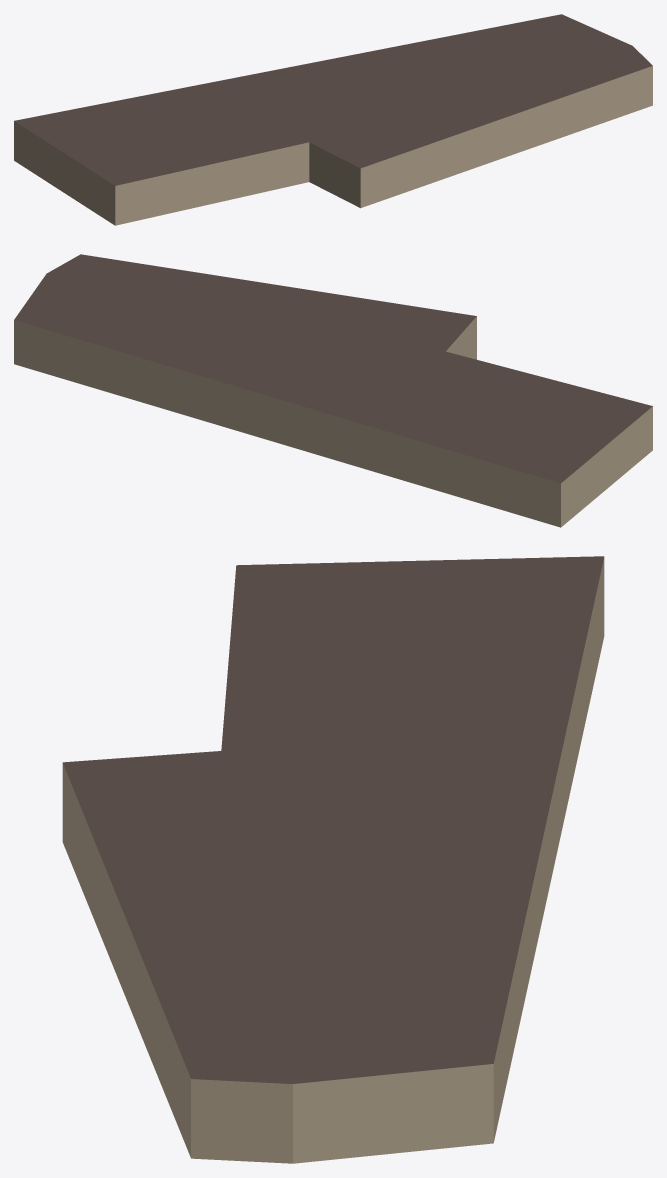
3 renders of one model, top to bottom at view 1: azimuth 30°, elevation 25°; view 2: azimuth 150°, elevation 25°; view 3: azimuth 270°, elevation 25°, orthographic. The views are drawn at different scales.
Parts seen in each view (by area): view 1: HP-w408450803; view 2: HP-w408450803; view 3: HP-w408450803.
Part boxes in pixels (x1,y1,x2,y2): HP-w408450803: (14,14,652,225); HP-w408450803: (14,254,652,527); HP-w408450803: (62,556,604,1163).
Size of the model in its own units: 42.66 by 3 by 18.5.
